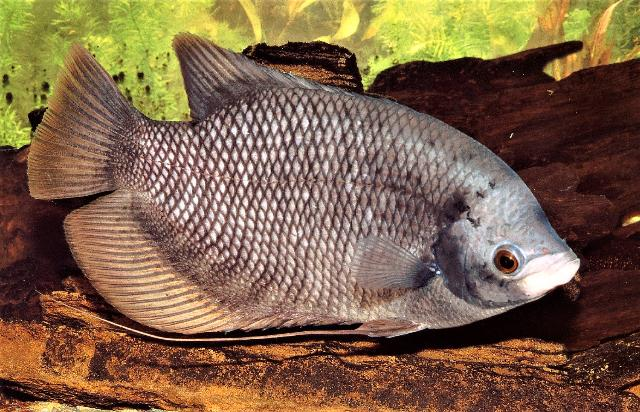Mulut: (481, 230, 605, 310)
Sirip Anal: (50, 181, 266, 351)
Sirip Dada: (334, 217, 450, 307)
Sirip Ekor: (17, 32, 144, 212)
Sirip Perut: (24, 283, 434, 355)
Sirip Punggung: (153, 12, 383, 140)
